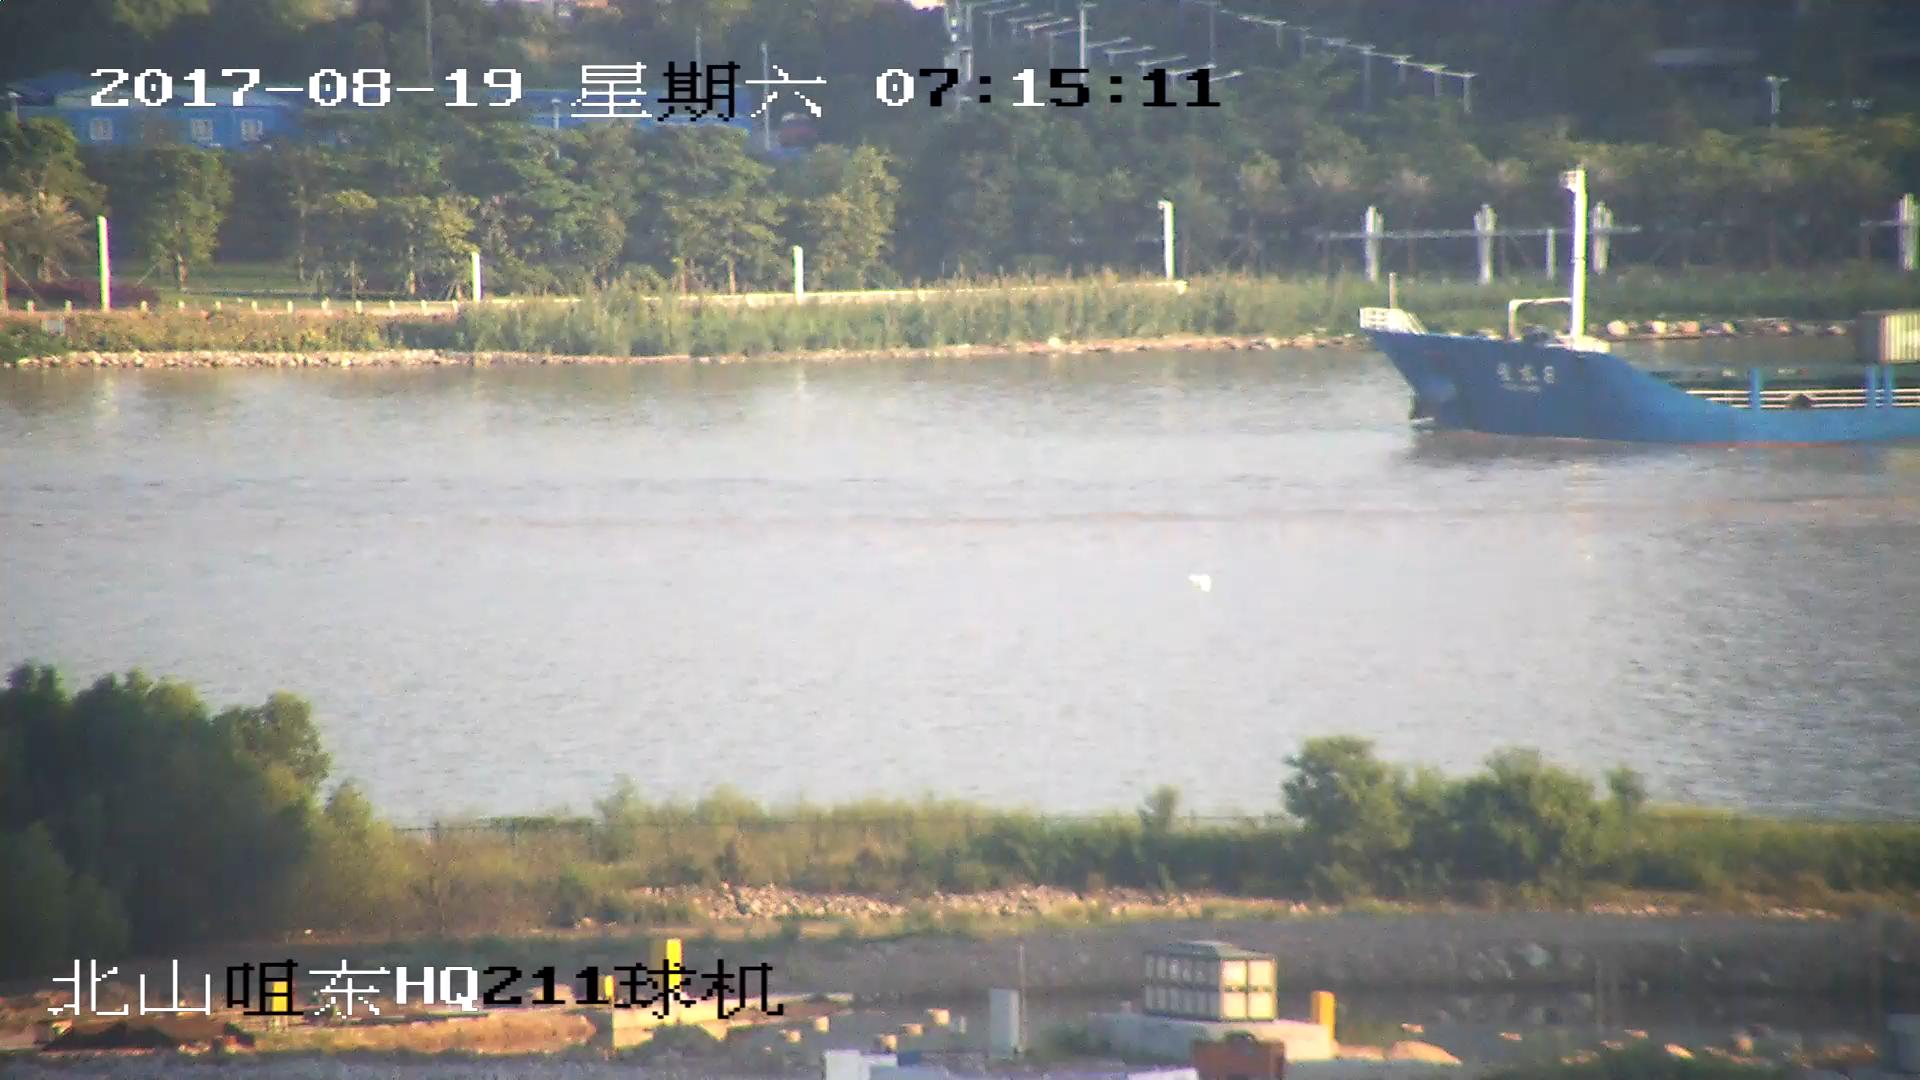general cargo ship: (1362, 165, 1920, 443)
